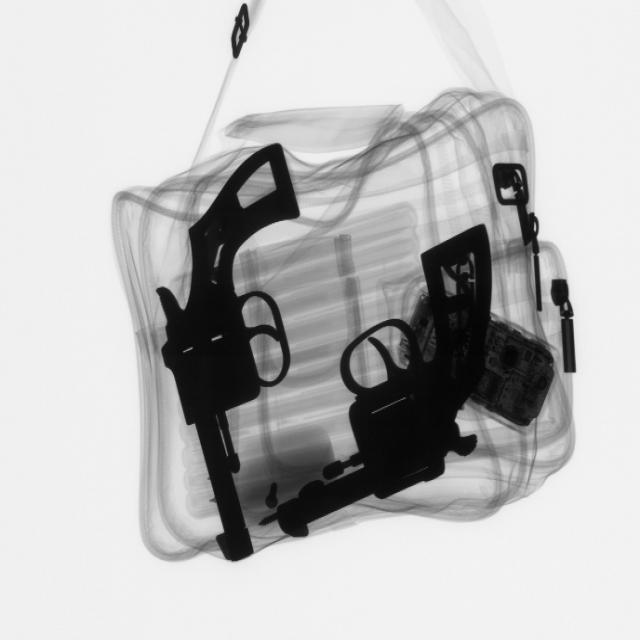GUN: (143, 142, 301, 571), (297, 224, 493, 551)
